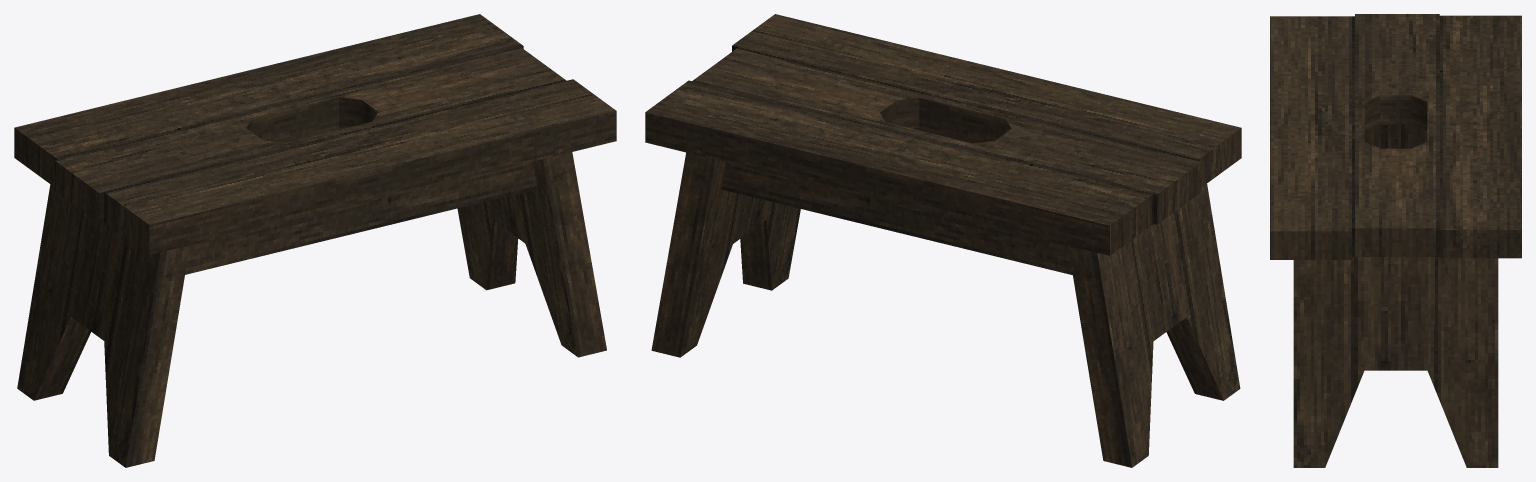
The model's file is stool_mx_1_2.glb.
The picture shows the model from 3 angles, left to right: view 1: azimuth 30°, elevation 25°; view 2: azimuth 150°, elevation 25°; view 3: azimuth 270°, elevation 25°; orthographic projection. The views are drawn at different scales.
Visible parts, largest first — view 1: stool_mx_1_2; view 2: stool_mx_1_2; view 3: stool_mx_1_2.
Boxes of the visible parts, <box> form: stool_mx_1_2: <box>14,14,616,467</box>; stool_mx_1_2: <box>645,14,1241,467</box>; stool_mx_1_2: <box>1270,14,1521,467</box>.
Size of the model in its own units: 0.6665 by 0.33 by 0.32.
Materials: 1 (1 with a texture image).
